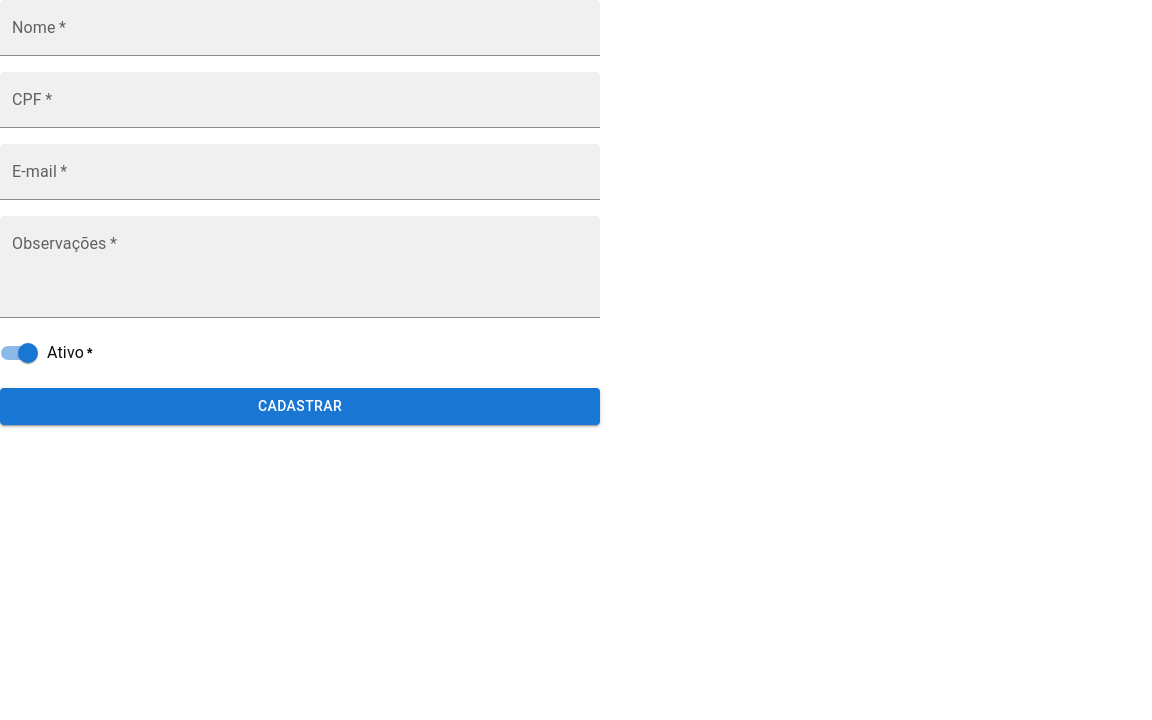
Test: NovoClienteForm › deve preencher e enviar o formulário com sucesso
This screenshot has width=1152, height=720.
In the field labelled "Nome *": (300, 28) [0,0,600,56], type "Fabrício Cabral"
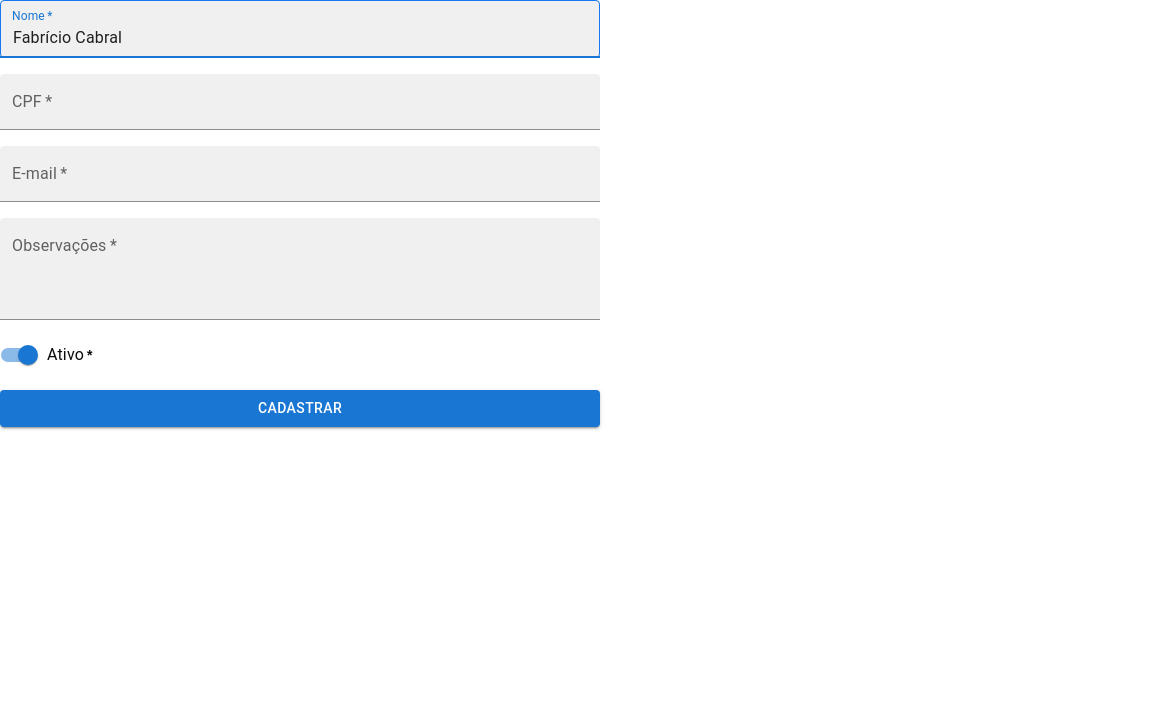
In the field labelled "CPF *": (300, 102) [0,74,600,130], type "12345678900"
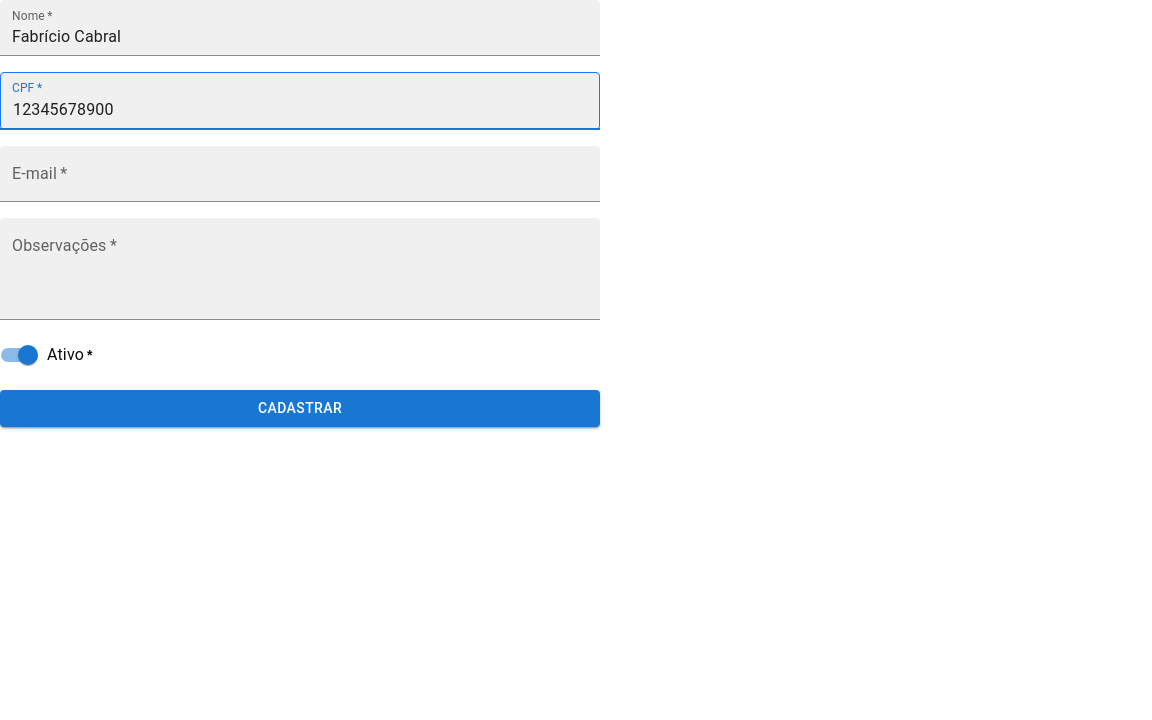
In the field labelled "E-mail *": (300, 174) [0,146,600,202], type "fabricio@email.com"
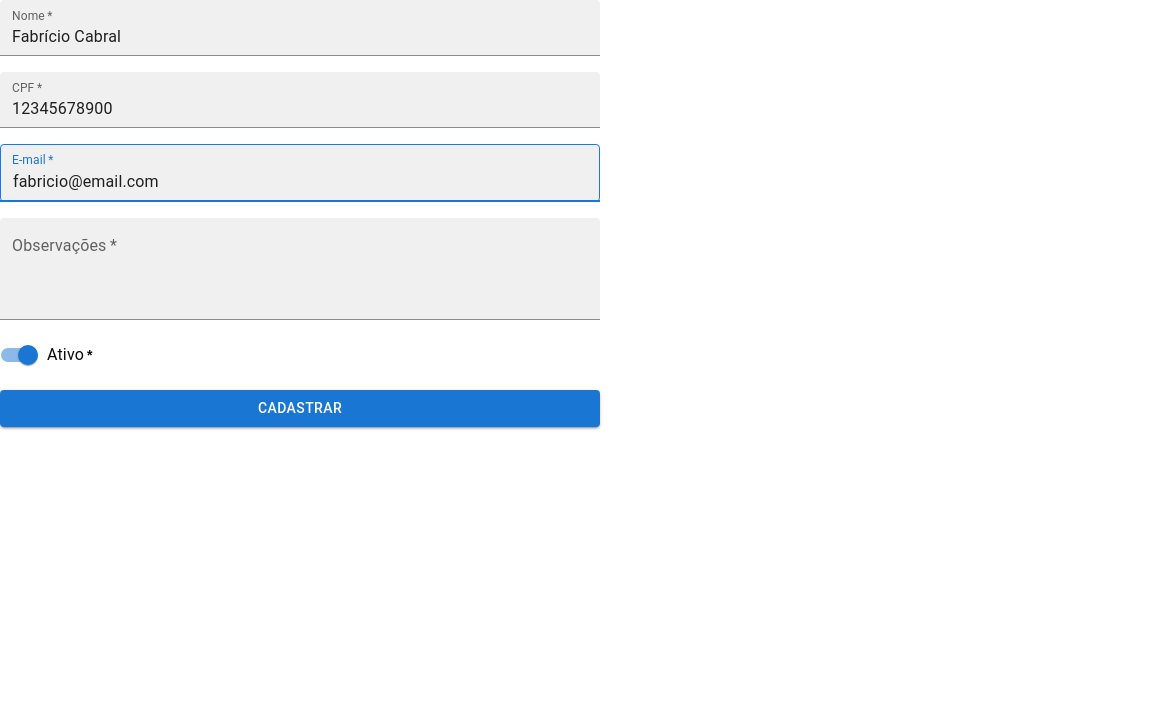
In the text box labelled "Observações *": (300, 278) [12,243,588,312], type "Cliente de teste"
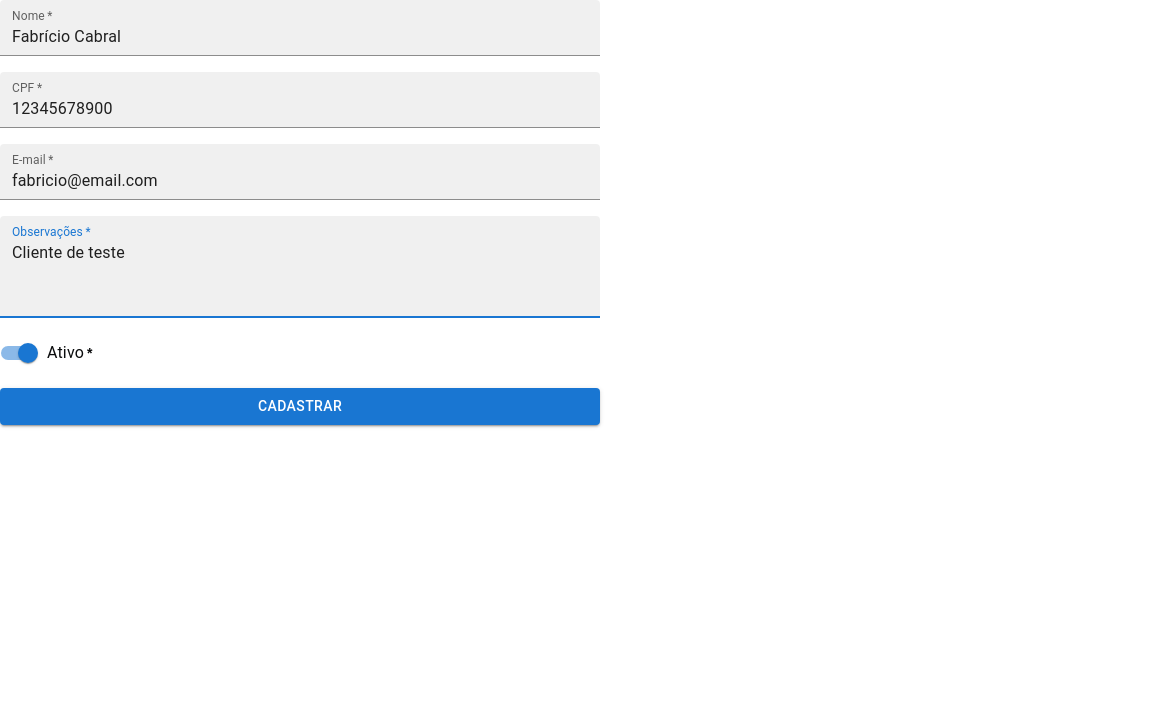
Click the button: (300, 406) [0,388,600,424]
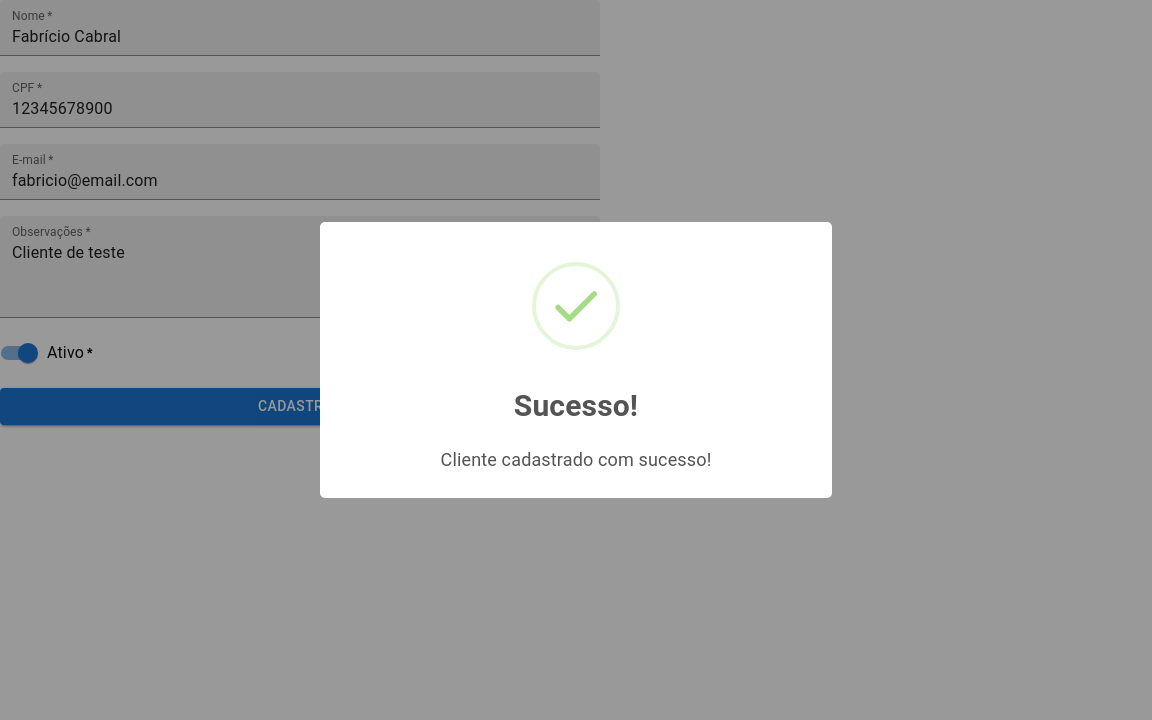
Check: the heading with class "swal2-title" reads "Sucesso!", box [514,388,638,423]
